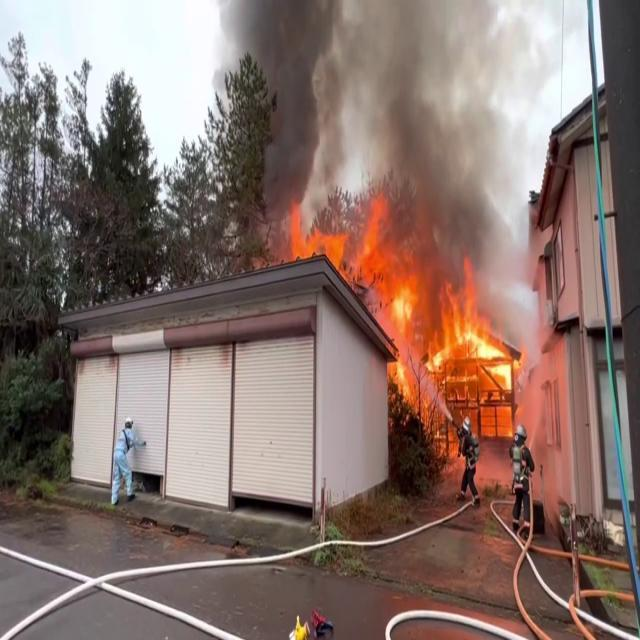Fire: (375, 271, 522, 410)
Smoke: (228, 0, 517, 261)
